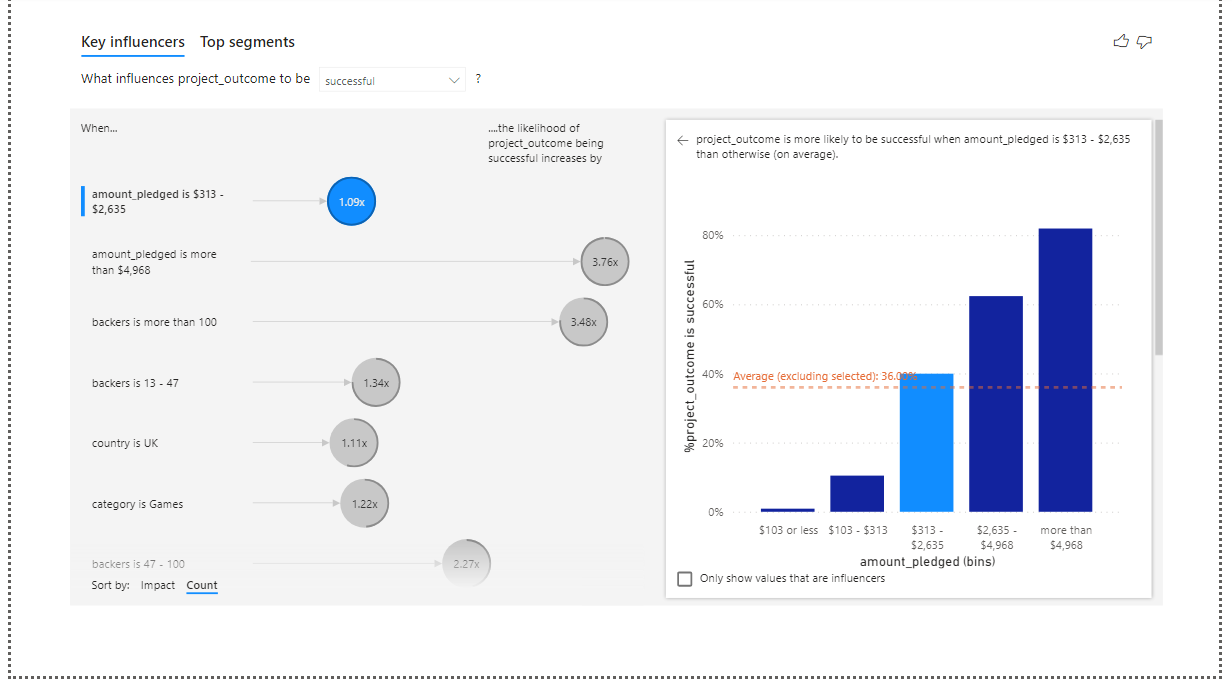

This screenshot's page, from the dashboard's own definition file:
{"tool":"powerbi","page":{"name":"Key Influencers","canvas":[1280,720],"ordinal":0},"visuals":[{"type":"keyDriversVisual","fields":{"Target":["kickstarter_projects.project_outcome"],"ExplainBy":["kickstarter_projects.country","kickstarter_projects.category","Sum(kickstarter_projects.backers)","Sum(kickstarter_projects.amount_pledged)"]},"box":[56.8,24.6,1168.3,626.7],"z":0}]}

Visuals, with their boxes in screenshot pixels (x1, y1, x2, y2), scaled from the page's 1280x720 canvas onto the 1232x685 screenshot:
keyDriversVisual - kickstarter_projects.project_outcome x kickstarter_projects.country: (55, 23, 1179, 620)
